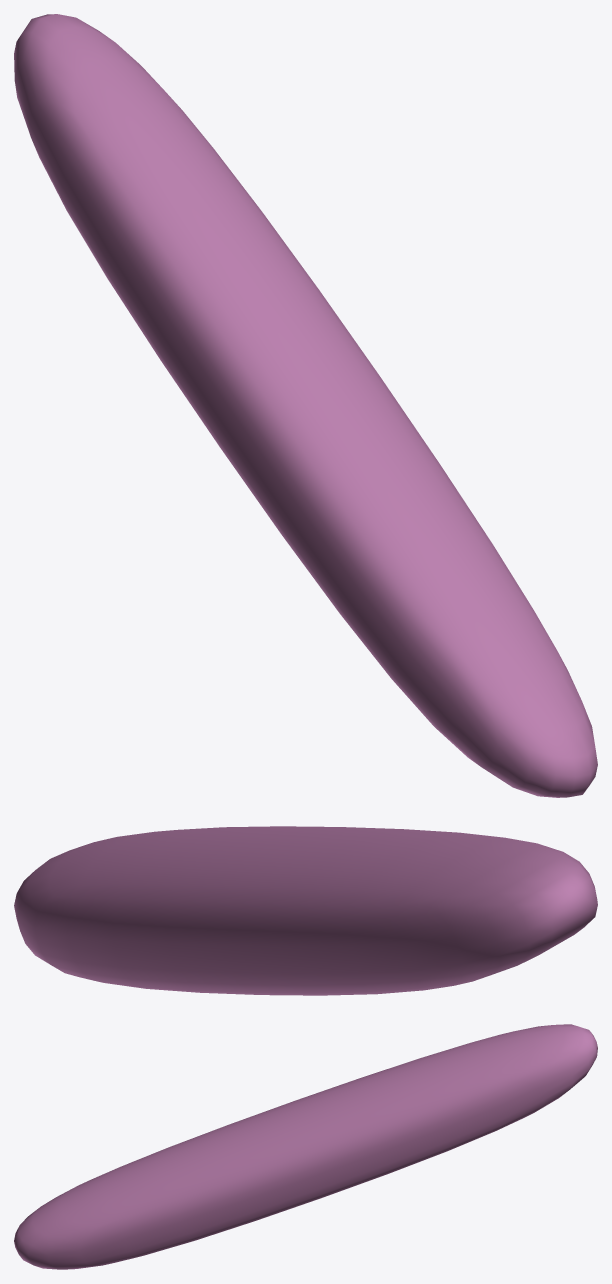
3 views of the same model, one above another, from view 1: azimuth 30°, elevation 25°; view 2: azimuth 210°, elevation 25°; view 3: azimuth 270°, elevation 25° (orthographic). The views are drawn at different scales.
Visible parts, largest first — view 1: 左侧舌下神经核; view 2: 左侧舌下神经核; view 3: 左侧舌下神经核.
Part boxes in pixels (<box>): 左侧舌下神经核: <box>14,14,597,797</box>; 左侧舌下神经核: <box>14,826,597,995</box>; 左侧舌下神经核: <box>14,1024,597,1269</box>.
Bounding box in the file's own units: 0.00193 × 0.00471 × 0.0109.
